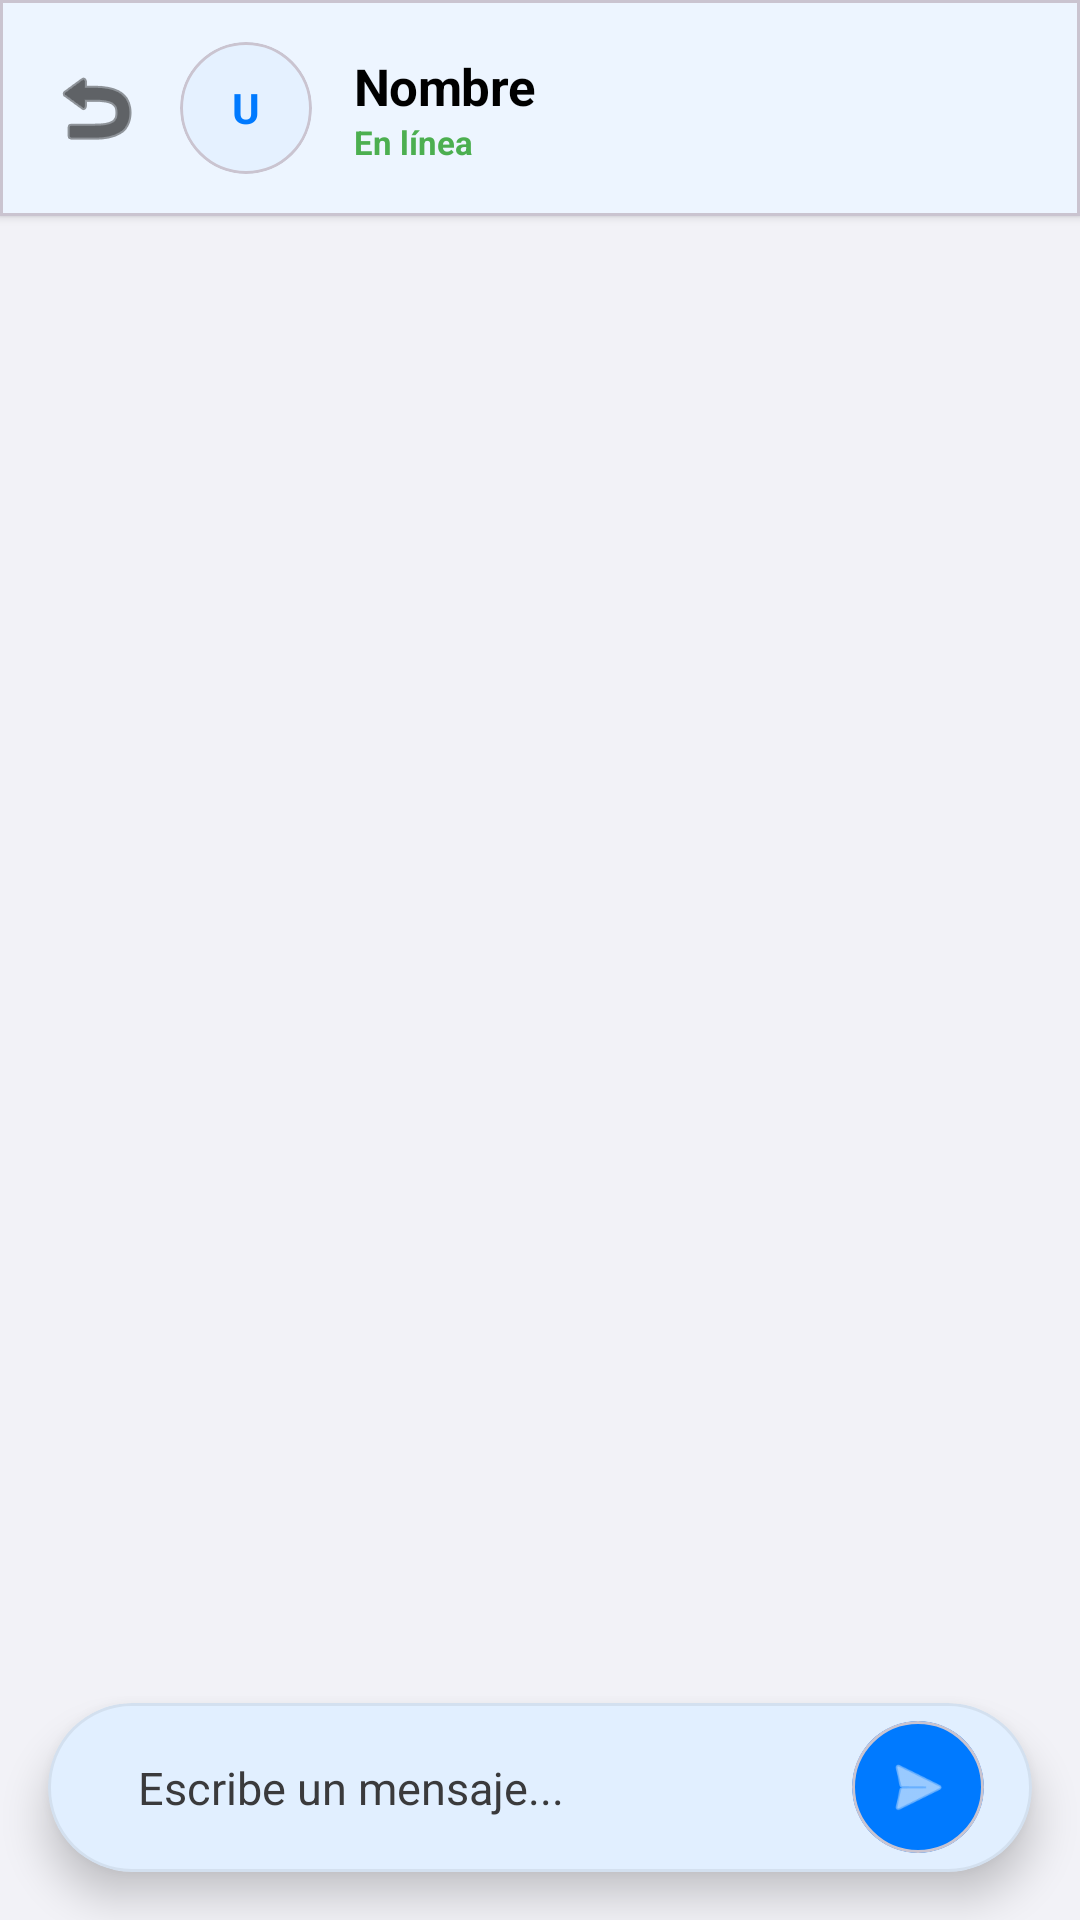

Screen size 1080w x 1920h. Icon name, then its center in pixels as (x=x, y=y):
revert: (x=97, y=108)
send: (x=918, y=1787)
